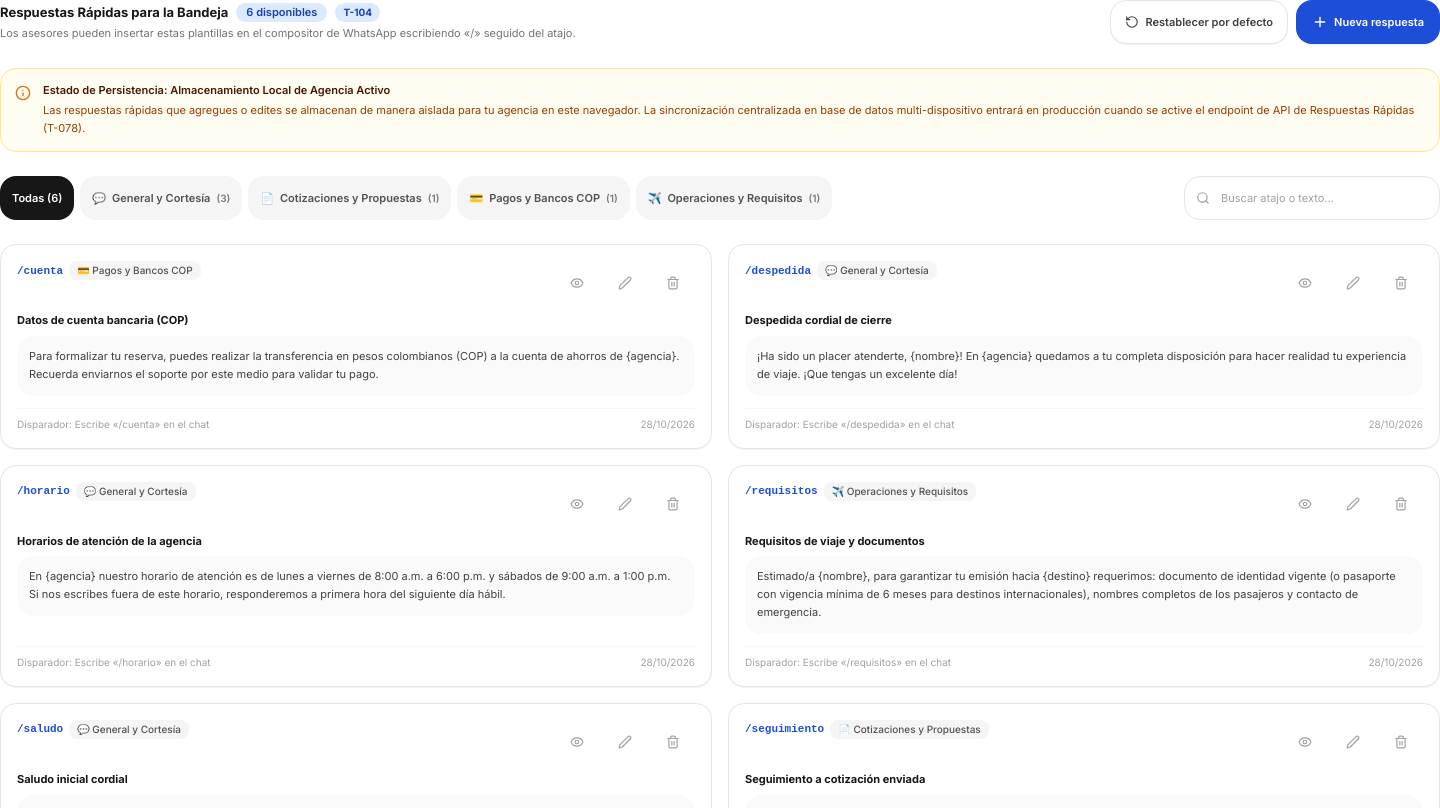
Scenario: BloqueRespuestasRapidas — Administración por Agencia (T-104) › 7. Abre modal de edición y modifica una respuesta existente
The width and height of the screenshot is (1440, 808).
Click the button named "Editar respuesta saludo".
click(625, 742)  # box [603, 720, 647, 764]
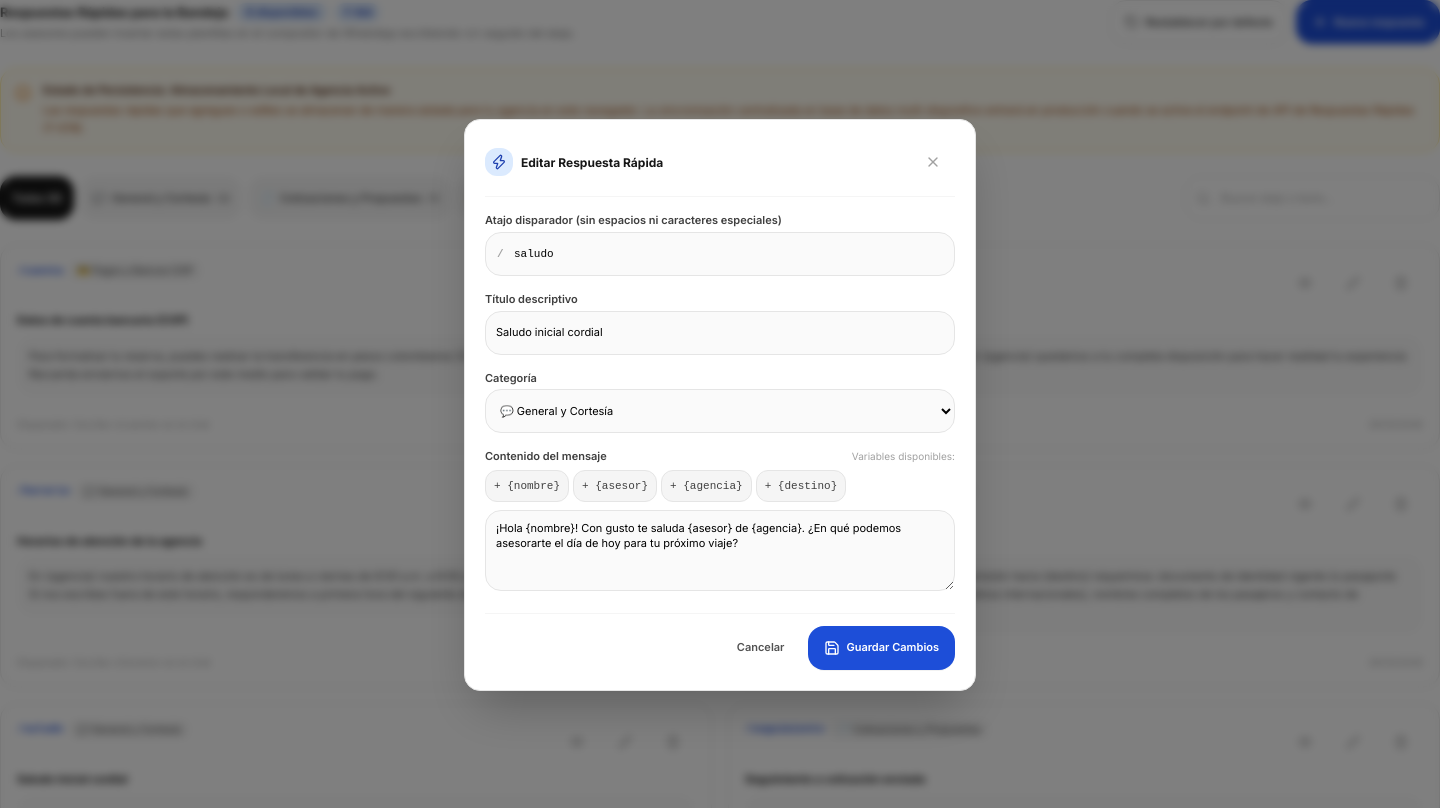
Now the heading "Editar Respuesta Rápida" is shown, box [521, 154, 663, 171]
Replace the text in the field with placeholder "ej. Datos de cuenta para pagos COP" below "Título descriptivo" with "Saludo Ultra Cordial" at (720, 332), box [485, 310, 955, 354]
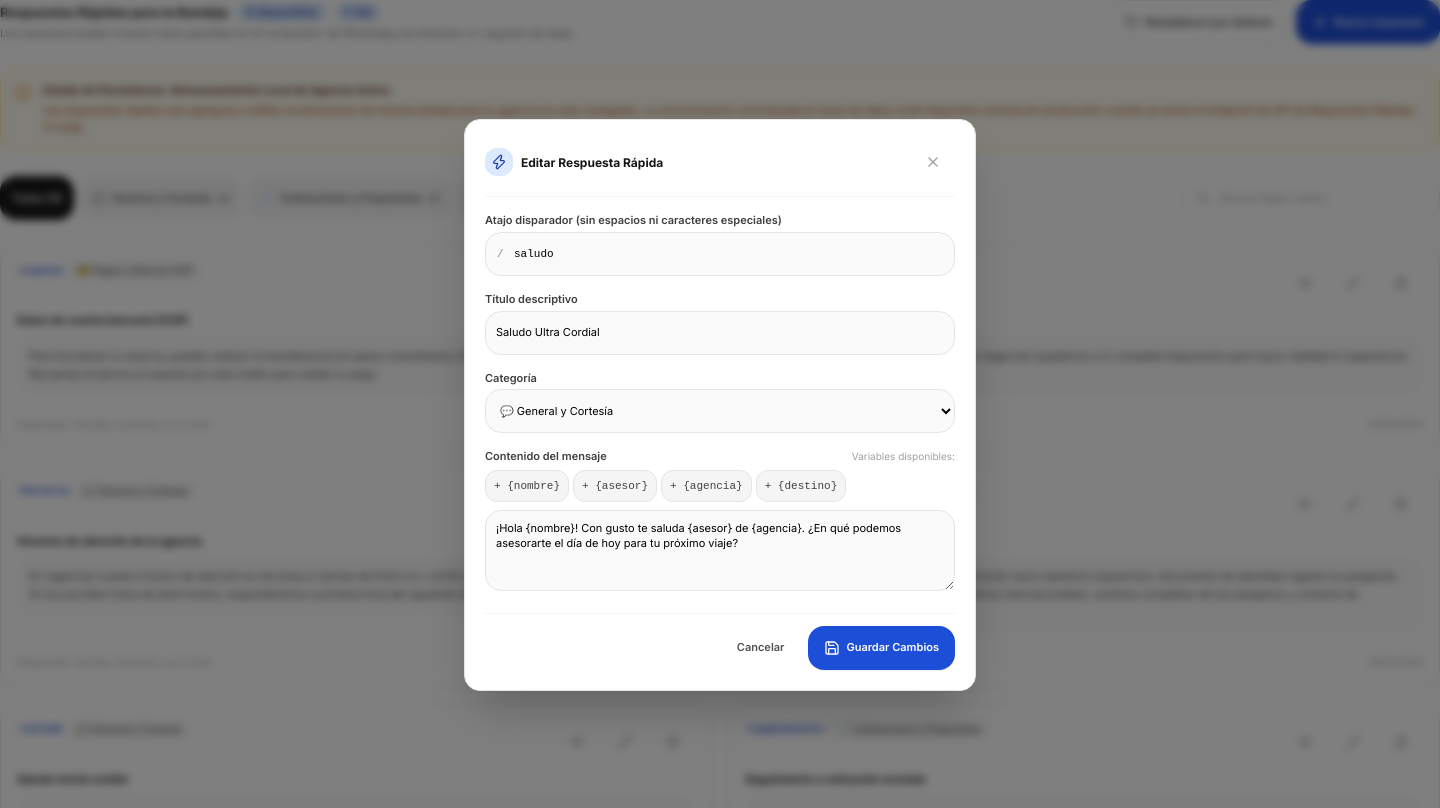
Click the button "Guardar Cambios".
click(882, 648)  # box [808, 626, 955, 670]
(page scrolled)
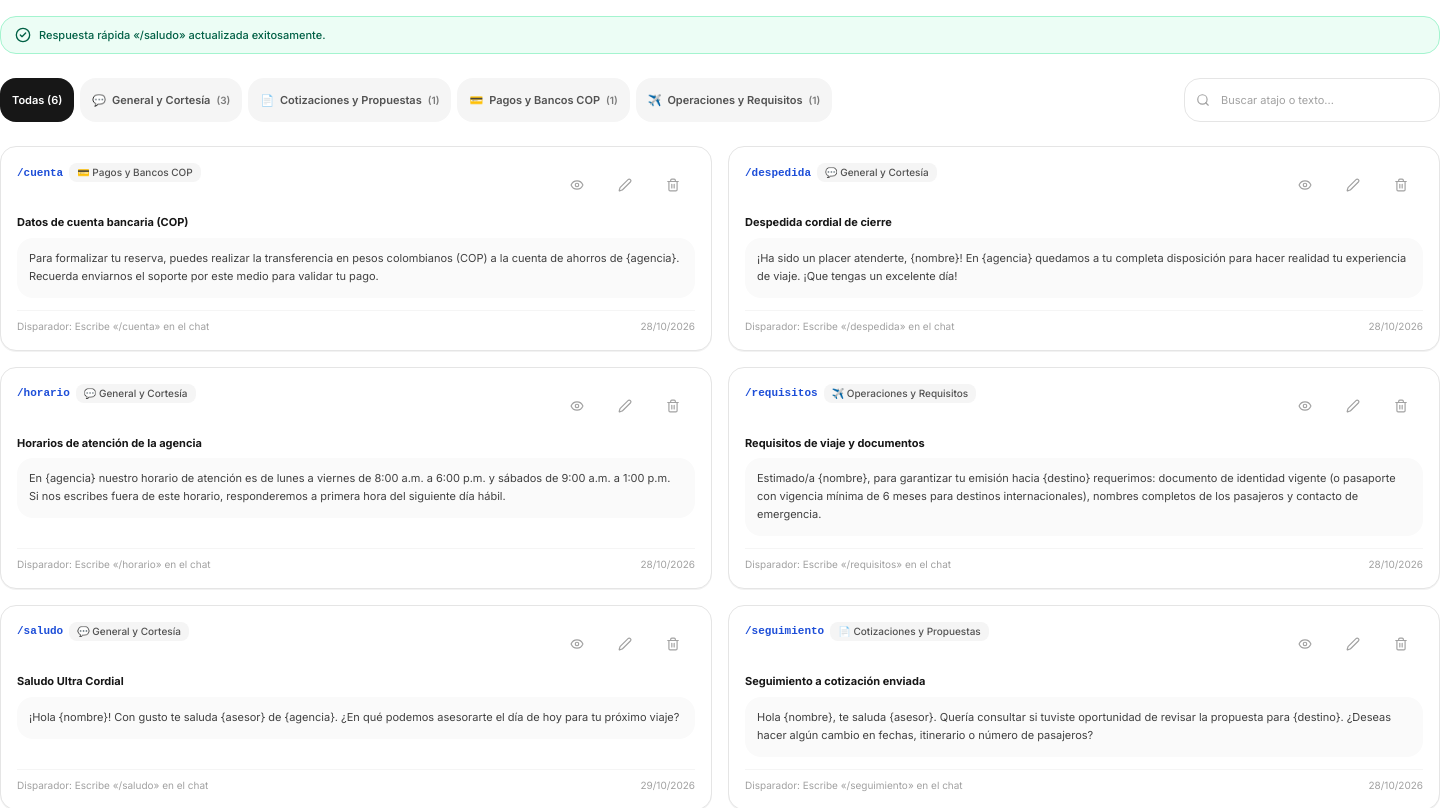
Now the heading "Saludo Ultra Cordial" is shown, box [17, 674, 124, 688]
